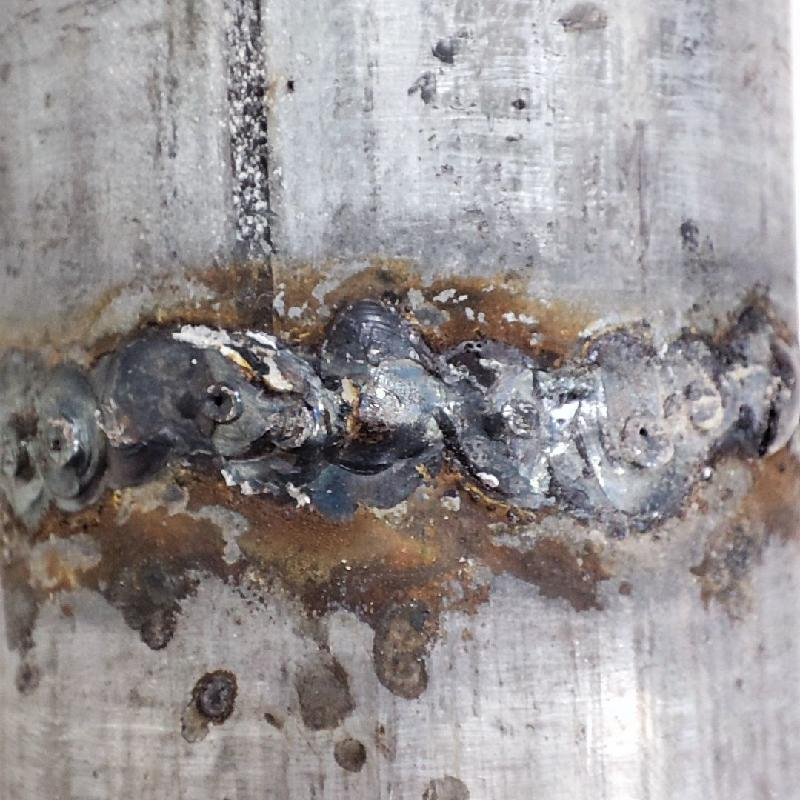Not_fully_soldered: (454, 330, 758, 517)
Surface_pores: (194, 375, 246, 431), (621, 415, 673, 468)
wrong_size: (3, 337, 453, 502)
